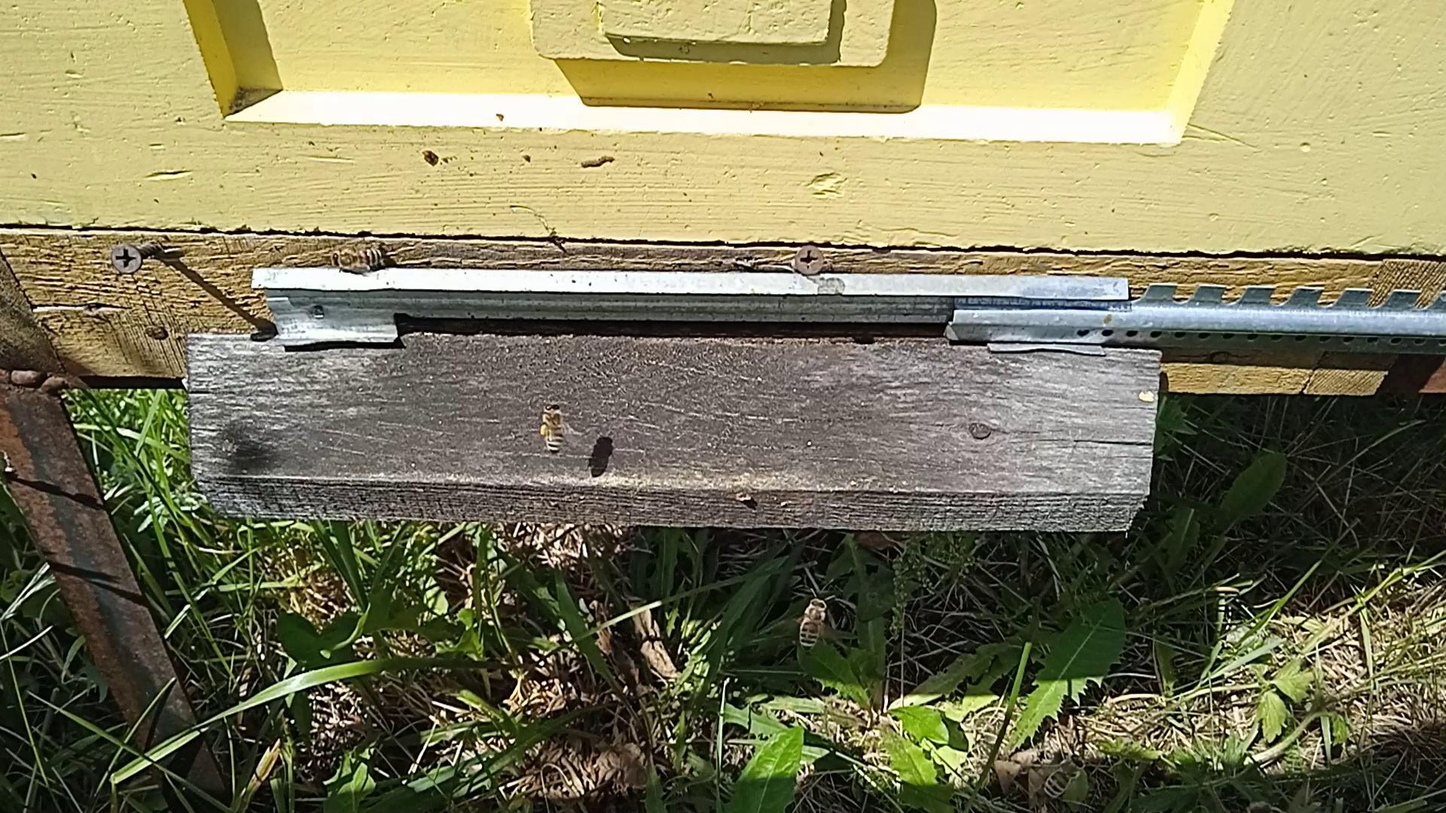worker-bee: (1042, 756, 1086, 798), (329, 239, 386, 270), (798, 595, 830, 650), (538, 401, 570, 455)
